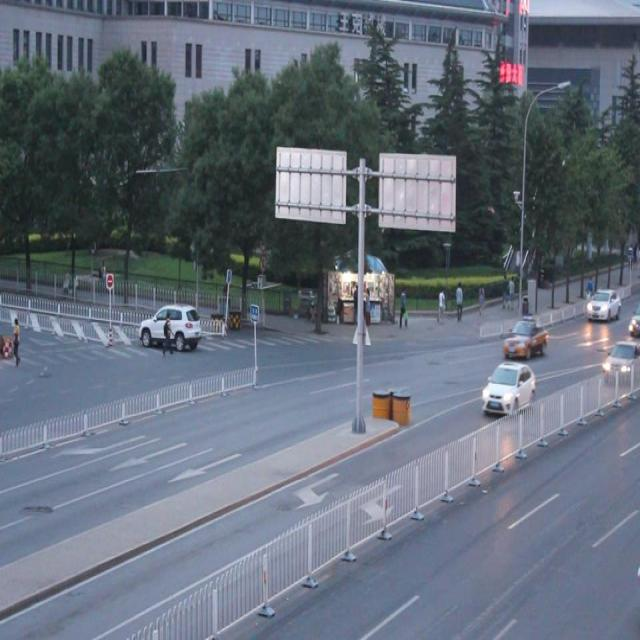car: (139, 302, 201, 349), (482, 359, 532, 413), (503, 315, 546, 357), (600, 340, 640, 383), (586, 288, 619, 318)
